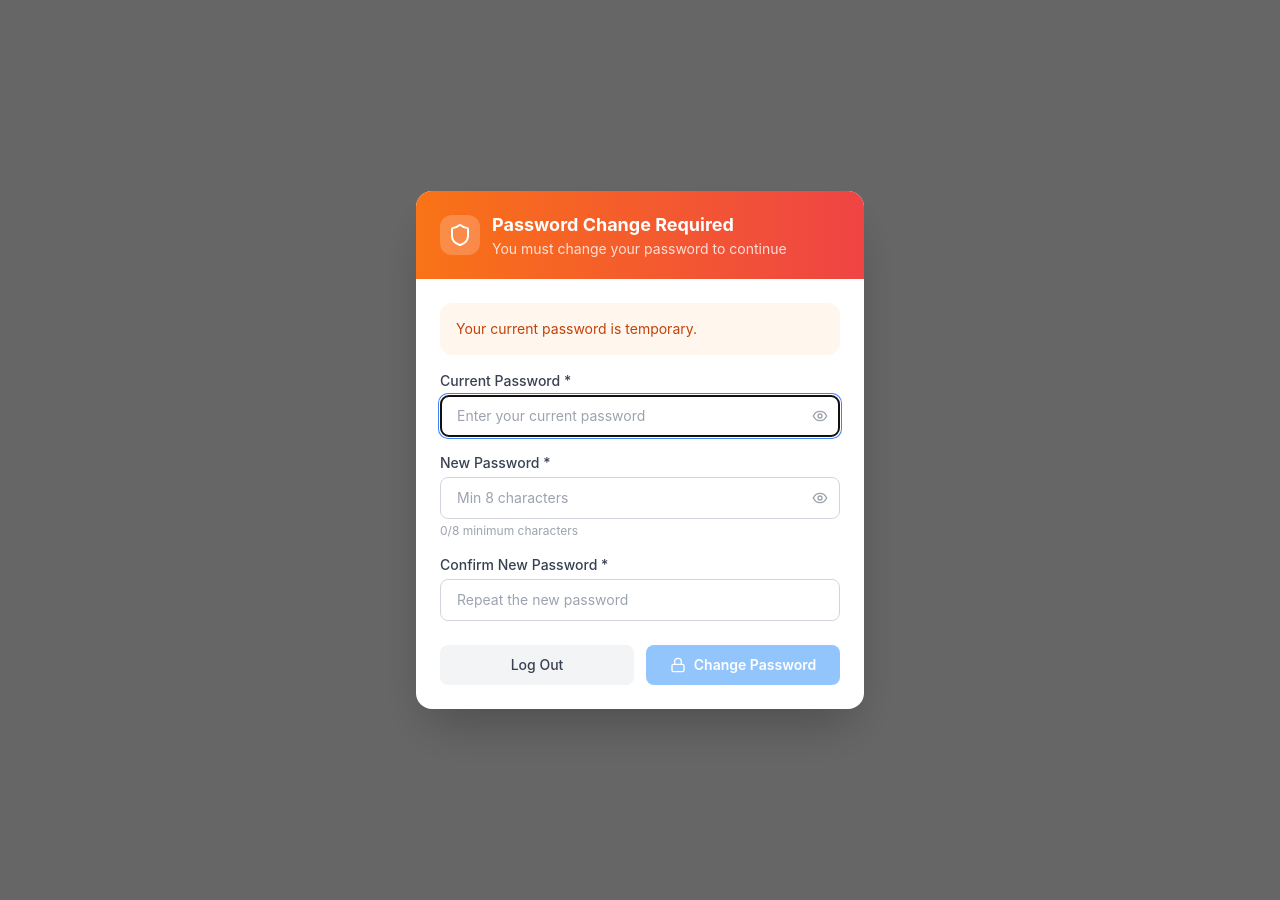
ForcePasswordChange › shows error when new password is too short
The width and height of the screenshot is (1280, 900).
Type "old123" into the password field with placeholder "Enter your current password". click: [640, 416]
box: x1=440 y1=395 x2=840 y2=437
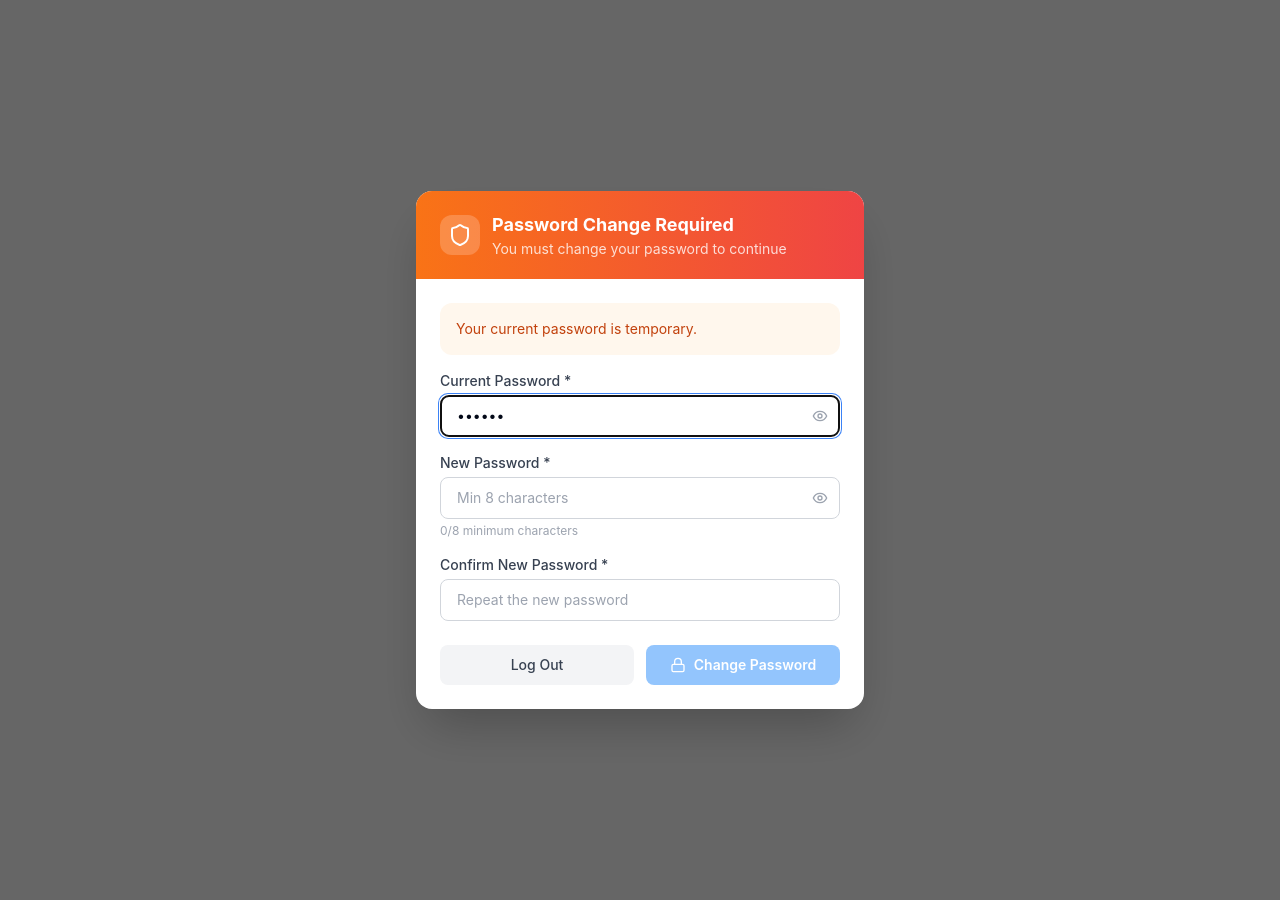
Type "12345" into the password field with placeholder "Min 8 characters". click: [640, 498]
box: x1=440 y1=477 x2=840 y2=519
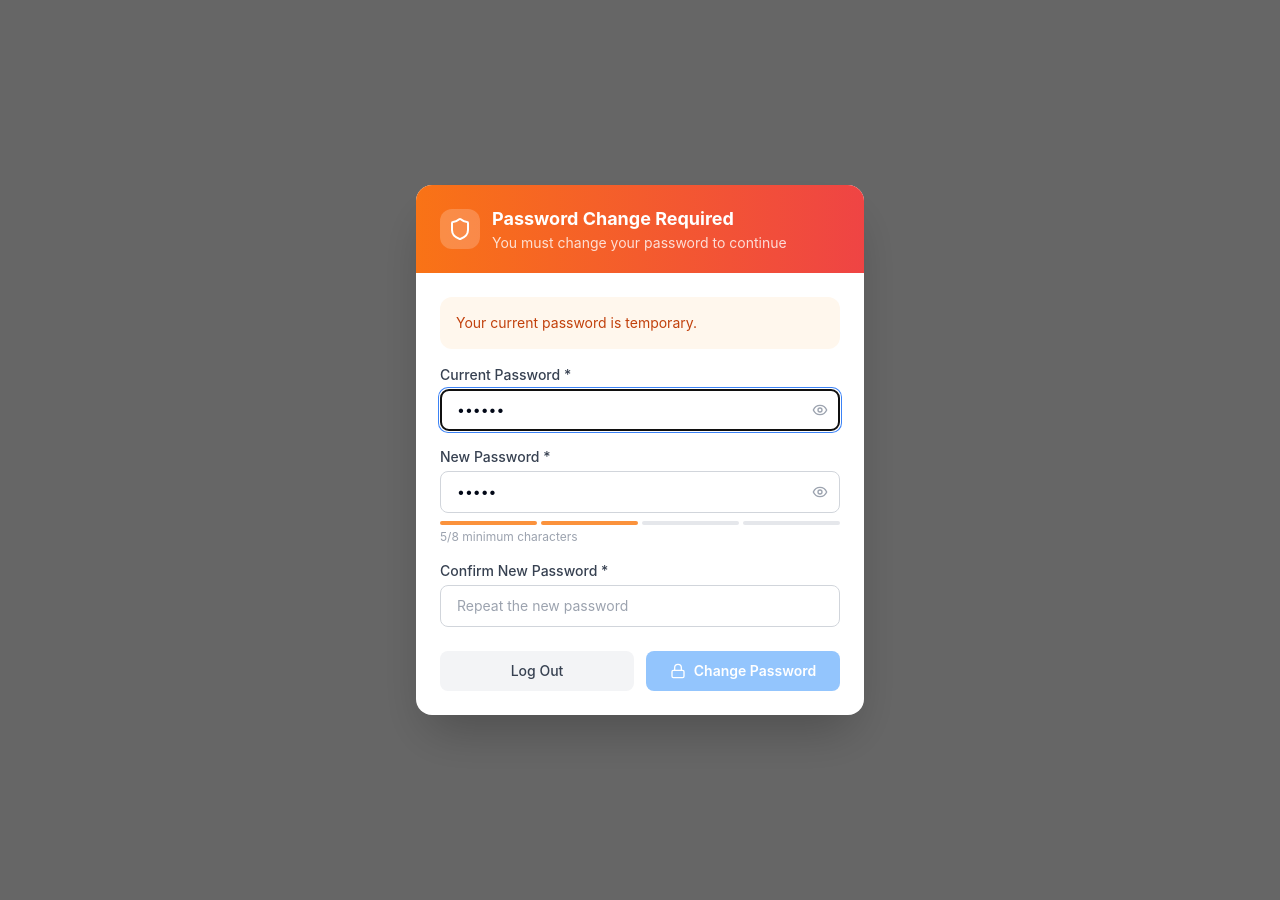
Submit the form, box x1=416 y1=273 x2=864 y2=715
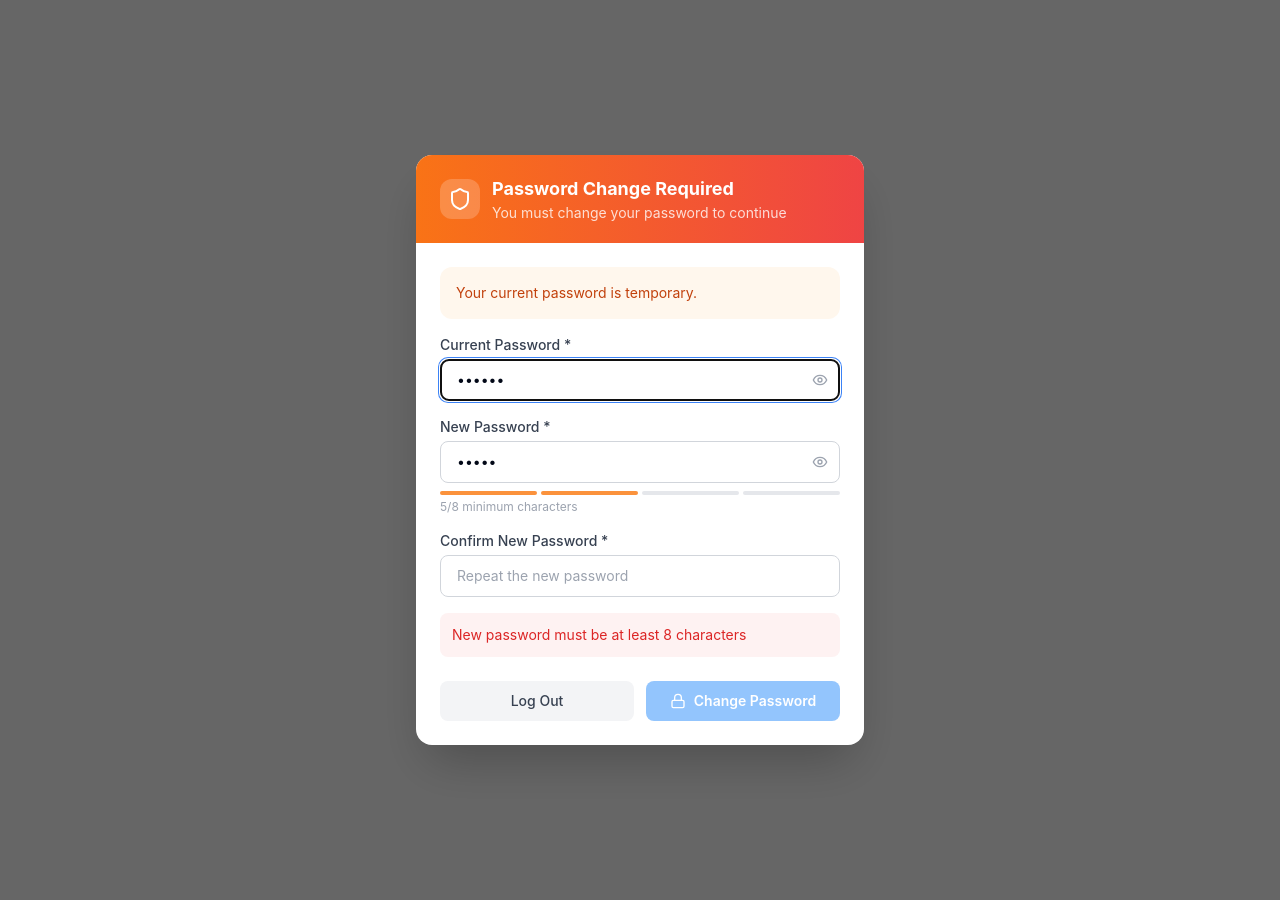
Now the text "New password must be at least 8 characters" is shown, box x1=440 y1=613 x2=840 y2=657
